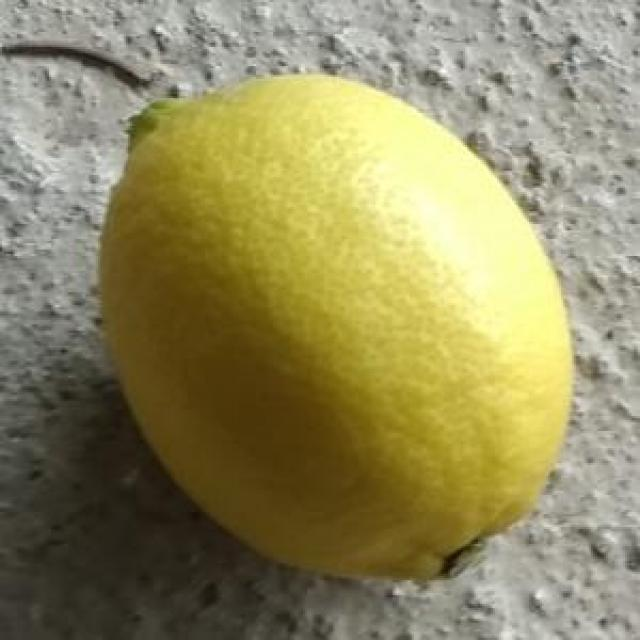lemon: (96, 77, 577, 587)
